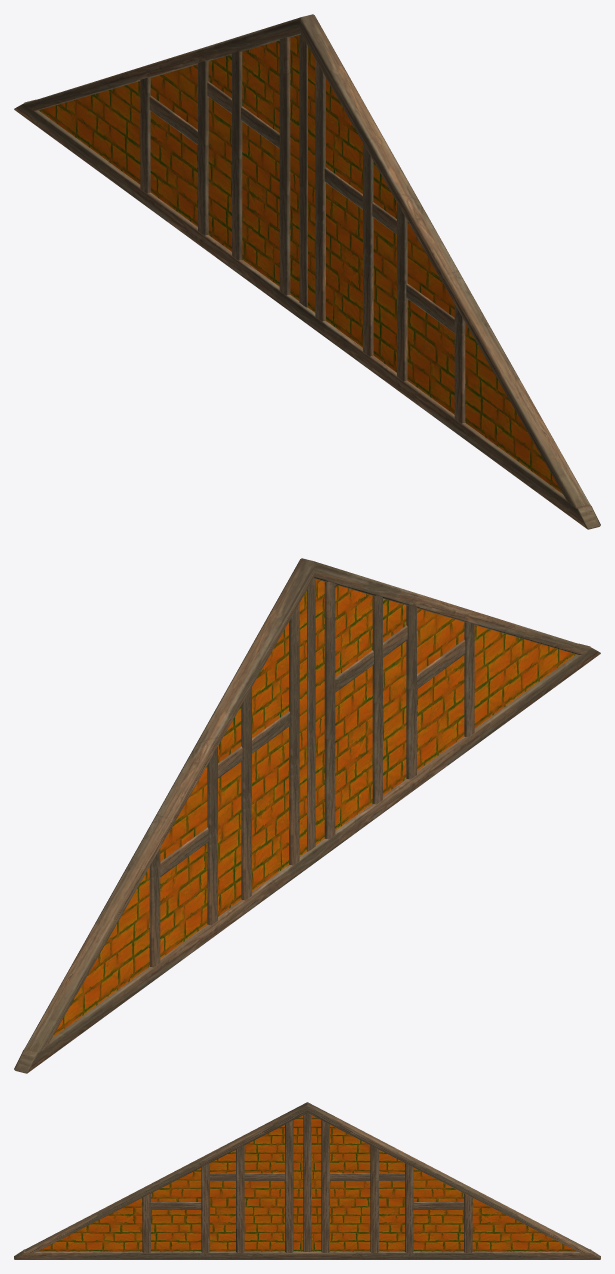
File: SM_wall_roof_04.fbx
The picture shows the model from 3 angles, top to bottom: view 1: azimuth 30°, elevation 25°; view 2: azimuth 150°, elevation 25°; view 3: azimuth 270°, elevation 25°; orthographic projection. The views are drawn at different scales.
Visible parts, largest first — view 1: SM_wall_roof_04_LOD0; view 2: SM_wall_roof_04_LOD0; view 3: SM_wall_roof_04_LOD0.
Part boxes in pixels (x1,y1,x2,y2): SM_wall_roof_04_LOD0: (14,14,600,529); SM_wall_roof_04_LOD0: (14,558,600,1073); SM_wall_roof_04_LOD0: (14,1102,600,1259).
Bounding box in the file's own units: 20 × 1373 × 400.
Materials: 2 (2 with a texture image).
